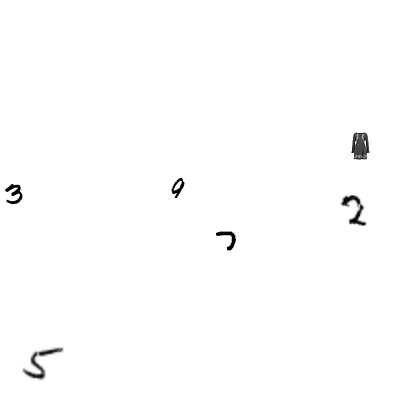2: (333, 188, 375, 230)
3: (0, 179, 28, 207)
5: (11, 334, 67, 390)
7: (214, 224, 242, 252)
9: (164, 173, 192, 201)
Dress: (346, 132, 374, 160)
